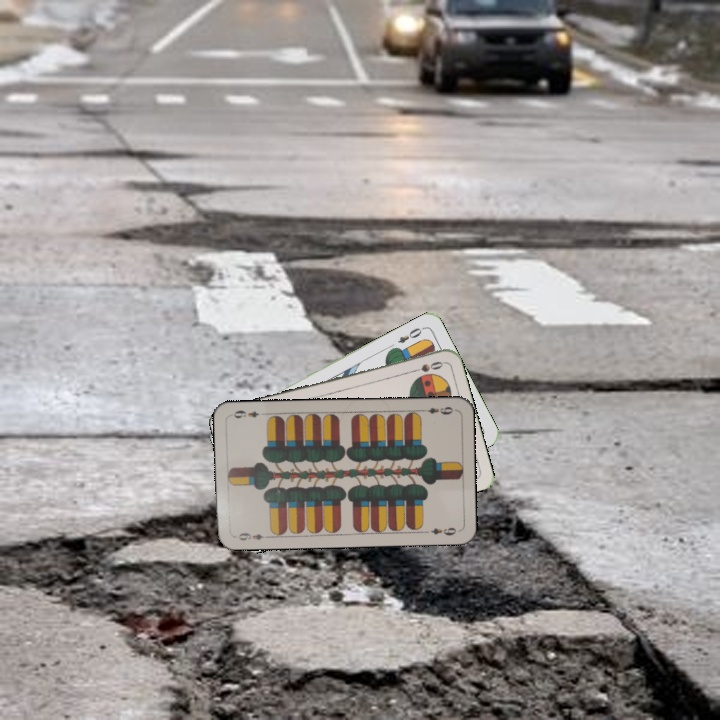E9: (231, 528, 272, 543), (417, 402, 455, 417)
EO: (394, 323, 427, 346)
SO: (406, 357, 446, 376)
